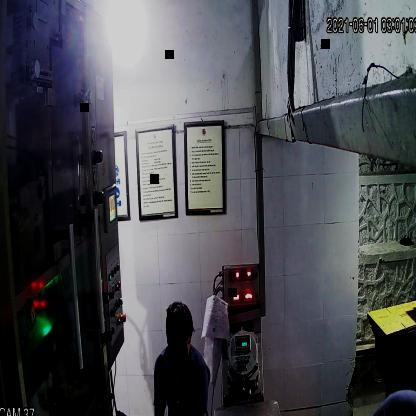no_goggles: (166, 331, 196, 357)
